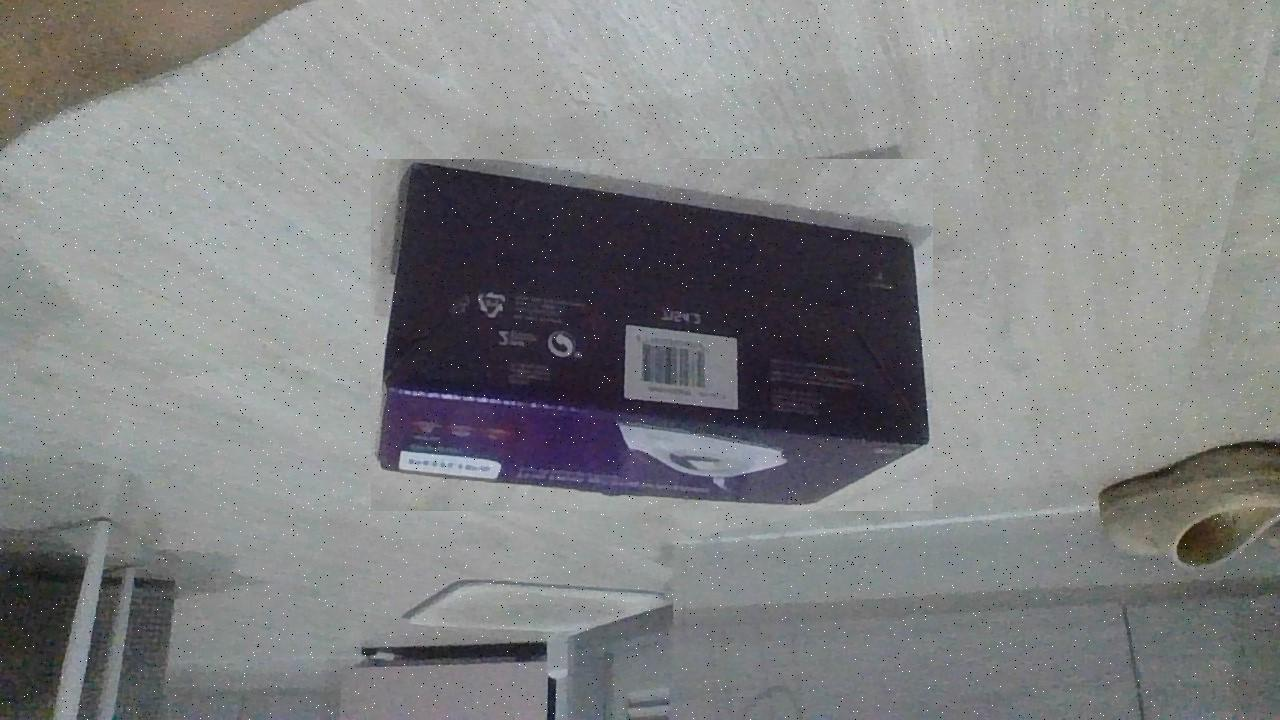IRON: (371, 159, 933, 511)
